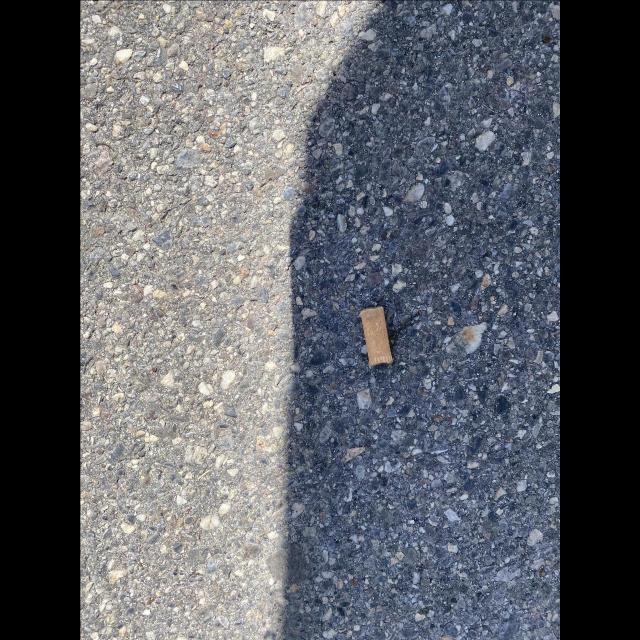cigarette: (358, 304, 394, 370)
